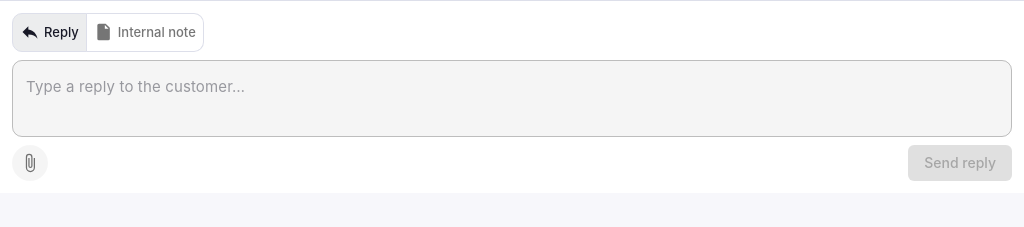
Scenario: MessageComposer › opens the mention picker on "@" and inserts the highlighted candidate with the keyboard
Type "Hello @al" into the dropdown labelled "reply" at (512, 98), box left=26, top=76, right=998, bottom=120
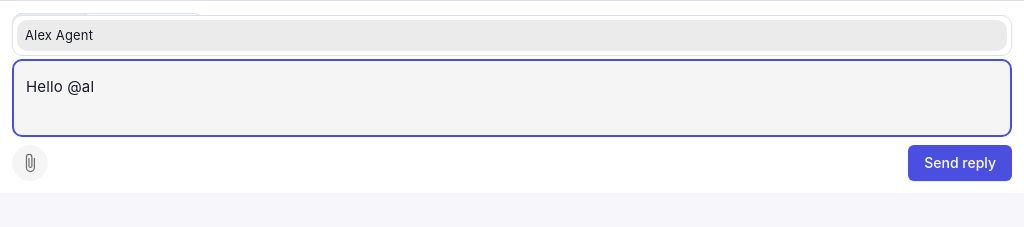
Expected: the list named "Mention a staff member" is shown, left=13, top=16, right=1011, bottom=55
Expected: the options read "Alex Agent", in this order, left=17, top=20, right=1007, bottom=51
Replace the text in the dropdown named "reply" with "Hello @ag" at (512, 98), box left=26, top=76, right=998, bottom=120
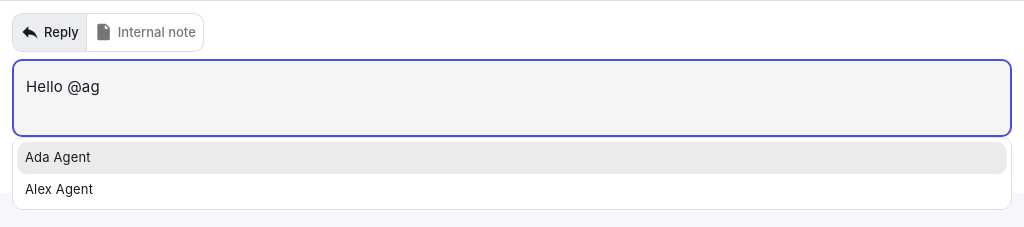
Expected: the options read "Ada Agent", "Alex Agent", in this order, left=17, top=142, right=1007, bottom=174; left=25, top=180, right=93, bottom=196
Press Arrowdown
Press Enter
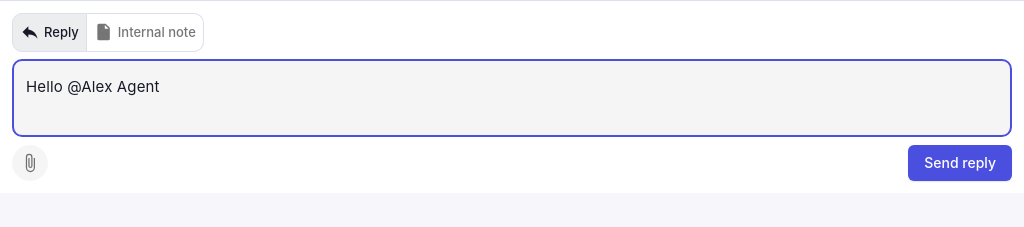
Expected: the list is gone
Expected: the dropdown named "reply" holds "Hello @Alex Agent ", left=26, top=76, right=998, bottom=120
